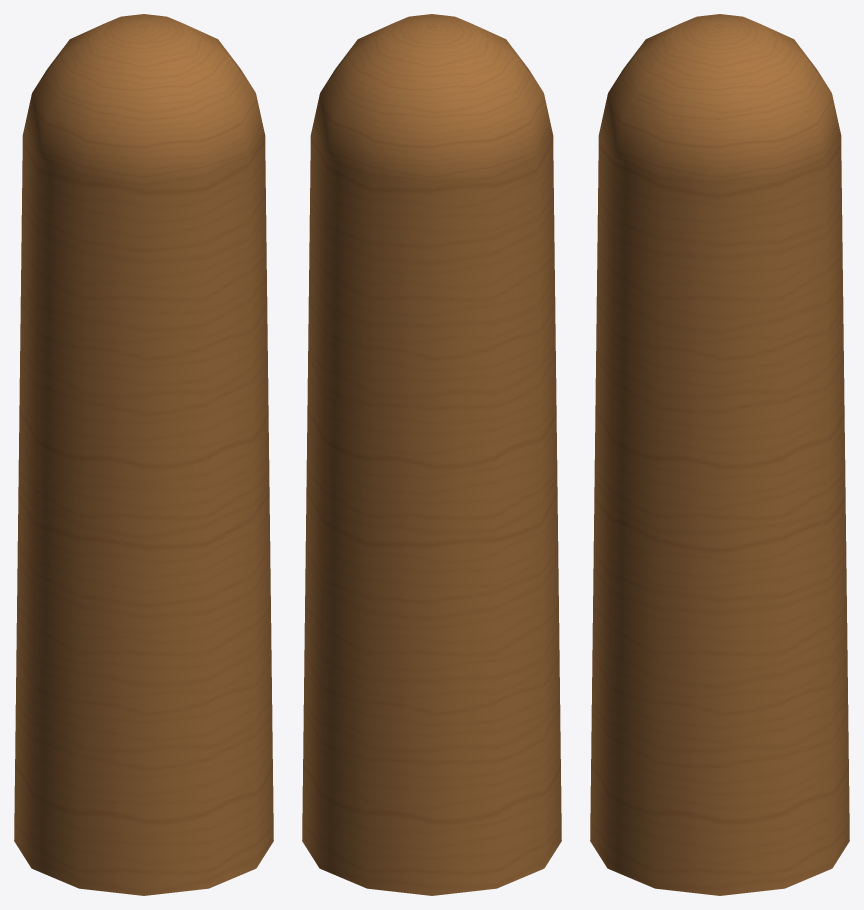
File: fence-post.glb
3 renders of one model, left to right at view 1: azimuth 30°, elevation 25°; view 2: azimuth 150°, elevation 25°; view 3: azimuth 270°, elevation 25°, orthographic.
Bounding box in the file's own units: 0.3 × 1.04 × 0.3.
Materials: 1 (1 with a texture image).
